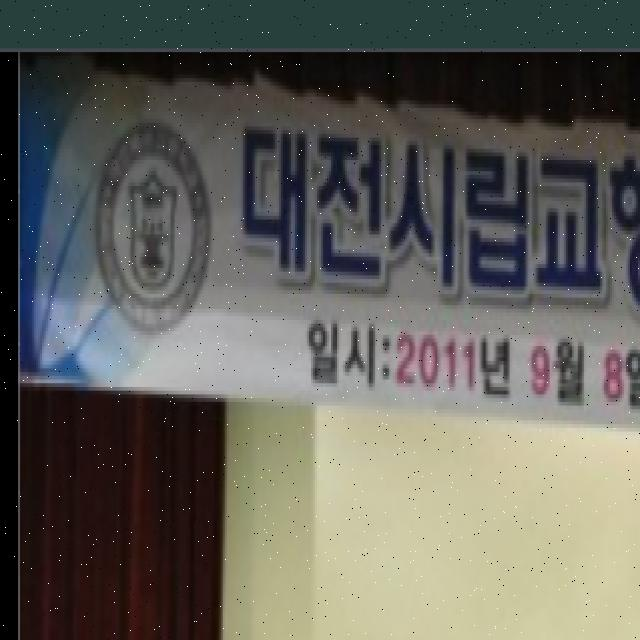logo: (92, 109, 216, 346)
